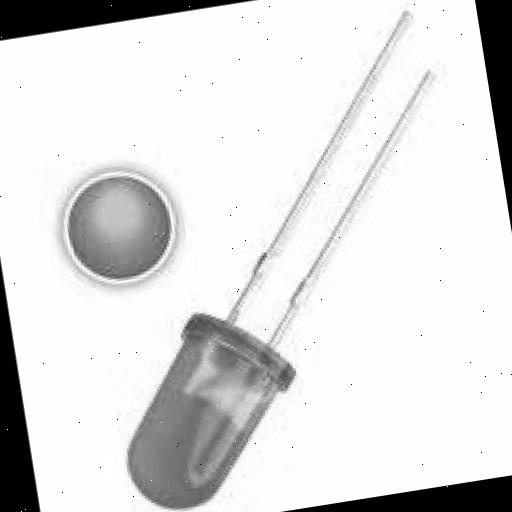LED: (85, 261, 397, 512)
